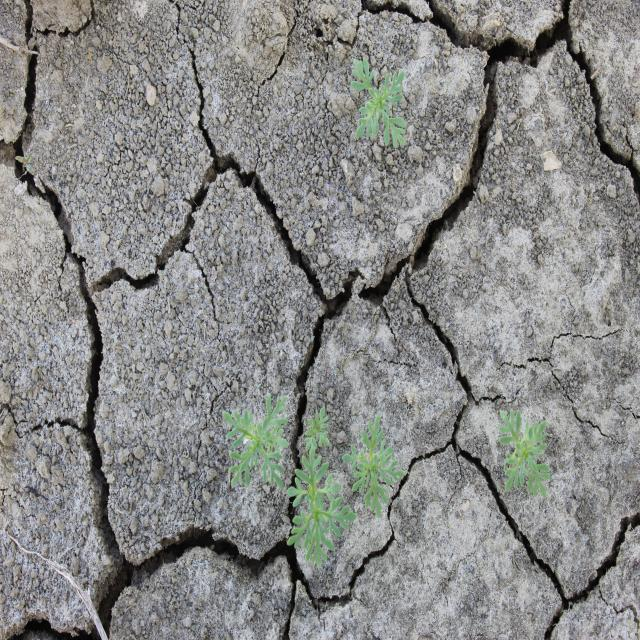Ragweed: (285, 446, 359, 572), (341, 412, 407, 520), (220, 390, 290, 490), (350, 56, 408, 150), (496, 406, 552, 501), (303, 404, 331, 454)
